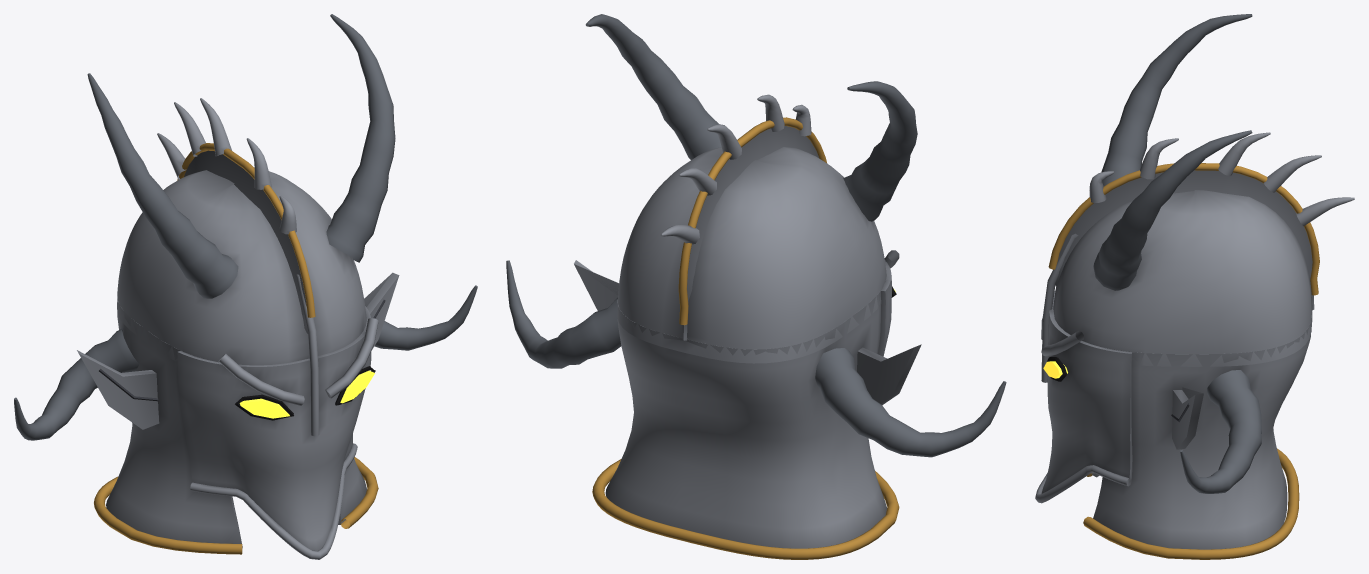
The model's file is h_blackdragon_f.glb.
3 renders of one model, left to right at view 1: azimuth 30°, elevation 25°; view 2: azimuth 150°, elevation 25°; view 3: azimuth 270°, elevation 25°, orthographic. The views are drawn at different scales.
Parts seen in each view (by area): view 1: BlackDragonHelm; view 2: BlackDragonHelm; view 3: BlackDragonHelm.
Boxes of the visible parts, box(x1,y1,x2,y2) form: BlackDragonHelm: box(14, 14, 477, 559); BlackDragonHelm: box(506, 14, 1006, 559); BlackDragonHelm: box(1035, 14, 1354, 559).
Size of the model in its own units: 0.5268 by 0.4749 by 0.3203.
